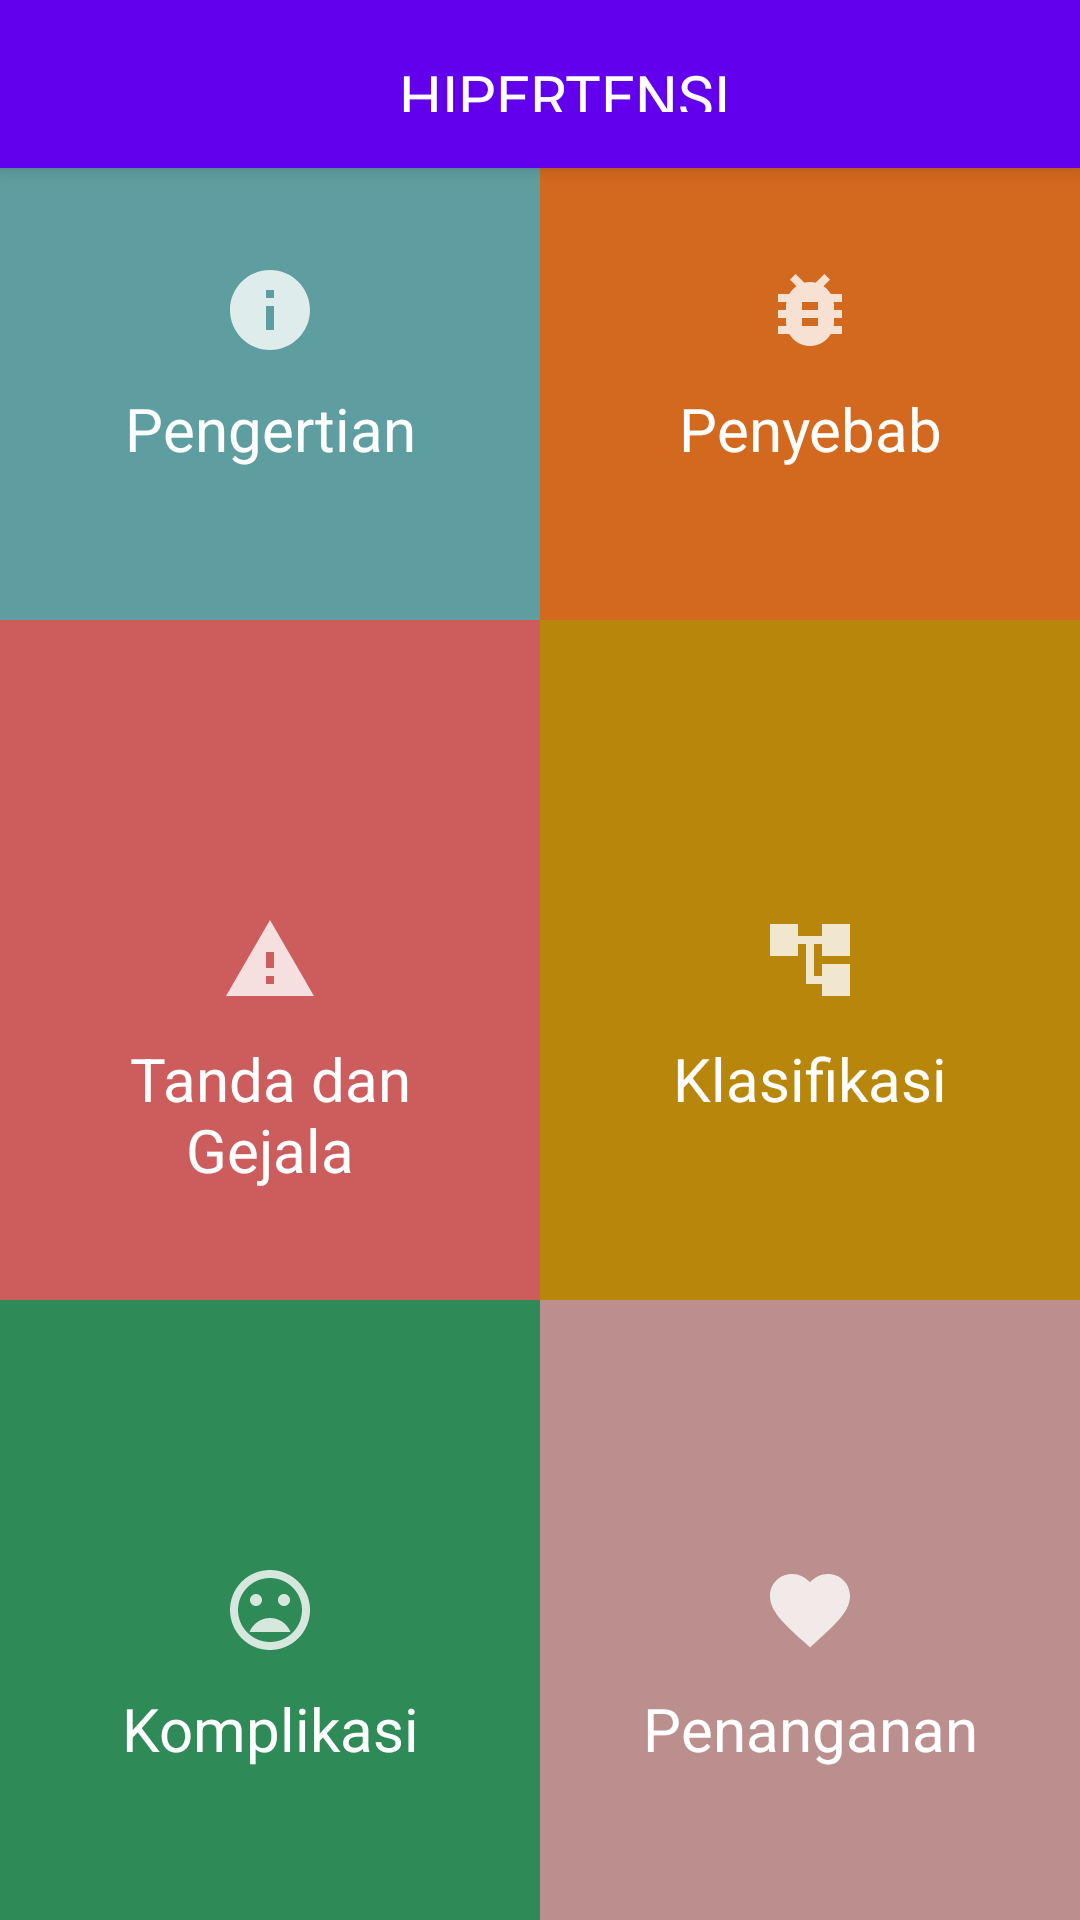

Named icons in this screenshot (1080 x 1920) and their bounding boxes, (x1, y1, x2, y2):
clasify hypertension: (770, 924, 850, 996)
complication hypertension: (230, 1570, 310, 1650)
info hypertension: (230, 270, 310, 350)
warning hypertension: (226, 920, 314, 996)
